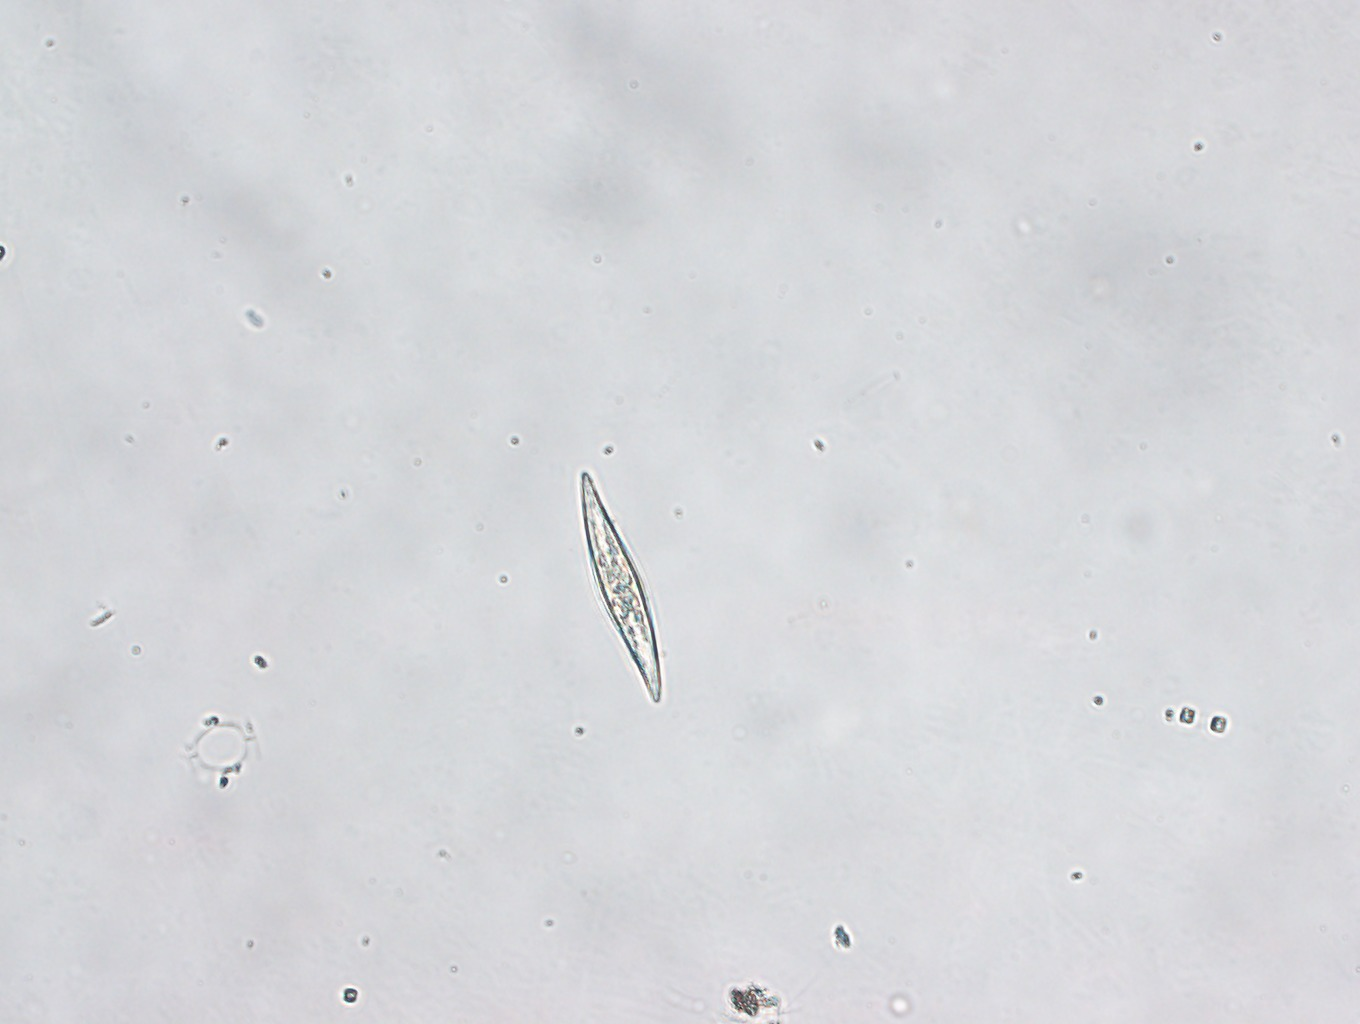pleurosigma pelagicum: (577, 470, 663, 706)
